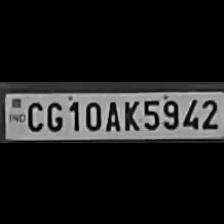0: (81, 98, 103, 130)
1: (65, 97, 81, 130)
2: (199, 95, 219, 129)
4: (180, 95, 198, 129)
5: (139, 96, 159, 130)
9: (160, 96, 180, 128)
A: (104, 97, 122, 130)
C: (24, 99, 42, 131)
G: (44, 99, 64, 131)
K: (119, 97, 139, 131)
